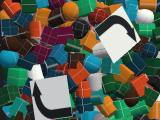Right: (94, 6, 141, 64), (29, 75, 72, 120)
